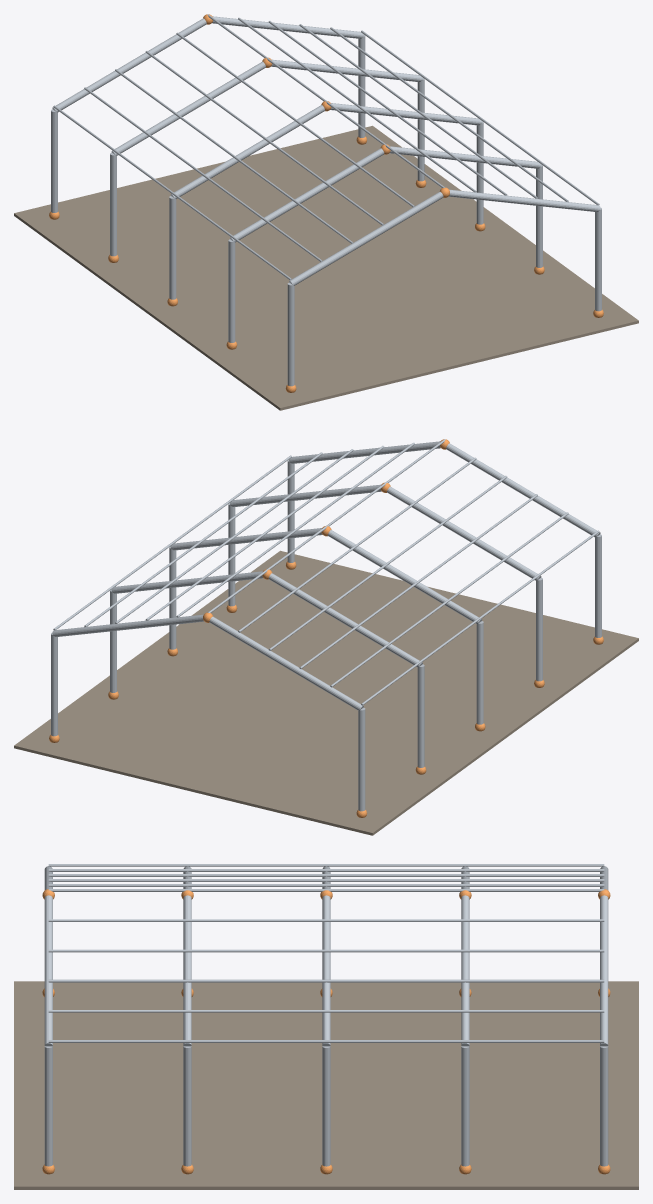
Rendered from ar-bab09-gudang.glb.
The picture shows the model from 3 angles, top to bottom: view 1: azimuth 30°, elevation 25°; view 2: azimuth 150°, elevation 25°; view 3: azimuth 270°, elevation 25°; orthographic projection. The views are drawn at different scales.
Visible parts, largest first — view 1: geometry_0, geometry_30, geometry_23, geometry_2, geometry_9, geometry_16, geometry_31, geometry_17, geometry_3, geometry_24, geometry_10, geometry_42 (+20 smaller); view 2: geometry_0, geometry_2, geometry_9, geometry_23, geometry_30, geometry_16, geometry_3, geometry_17, geometry_31, geometry_10, geometry_24, geometry_42 (+20 smaller); view 3: geometry_0, geometry_41, geometry_43, geometry_37, geometry_39, geometry_45, geometry_36, geometry_38, geometry_40, geometry_42, geometry_44, geometry_46 (+10 smaller).
Boxes of the visible parts, left/top/right/bottom form: geometry_0: left=14, top=125, right=638, bottom=410; geometry_30: left=289, top=191, right=443, bottom=285; geometry_23: left=230, top=148, right=384, bottom=242; geometry_2: left=52, top=18, right=206, bottom=112; geometry_9: left=111, top=61, right=265, bottom=155; geometry_16: left=170, top=105, right=325, bottom=198; geometry_31: left=448, top=189, right=600, bottom=211; geometry_17: left=330, top=103, right=482, bottom=125; geometry_3: left=212, top=16, right=363, bottom=38; geometry_24: left=389, top=146, right=541, bottom=168; geometry_10: left=271, top=59, right=422, bottom=81; geometry_42: left=145, top=51, right=384, bottom=225; geometry_0: left=14, top=550, right=638, bottom=835; geometry_2: left=209, top=616, right=363, bottom=710; geometry_9: left=268, top=573, right=422, bottom=667; geometry_23: left=387, top=486, right=541, bottom=580; geometry_30: left=446, top=443, right=600, bottom=537; geometry_16: left=327, top=530, right=482, bottom=623; geometry_3: left=52, top=614, right=204, bottom=636; geometry_17: left=170, top=528, right=322, bottom=550; geometry_31: left=289, top=441, right=440, bottom=463; geometry_10: left=111, top=571, right=263, bottom=593; geometry_24: left=230, top=484, right=381, bottom=506; geometry_42: left=268, top=476, right=507, bottom=650; geometry_0: left=14, top=981, right=638, bottom=1189; geometry_41: left=48, top=979, right=604, bottom=982; geometry_43: left=48, top=949, right=604, bottom=952; geometry_37: left=48, top=1040, right=604, bottom=1042; geometry_39: left=48, top=1010, right=604, bottom=1012; geometry_45: left=48, top=919, right=604, bottom=921; geometry_36: left=48, top=864, right=604, bottom=866; geometry_38: left=48, top=869, right=604, bottom=871; geometry_40: left=48, top=874, right=604, bottom=876; geometry_42: left=48, top=879, right=604, bottom=881; geometry_44: left=48, top=884, right=604, bottom=886; geometry_46: left=48, top=889, right=604, bottom=891.
Bounding box in the file's own units: 14 × 6.29 × 18.
